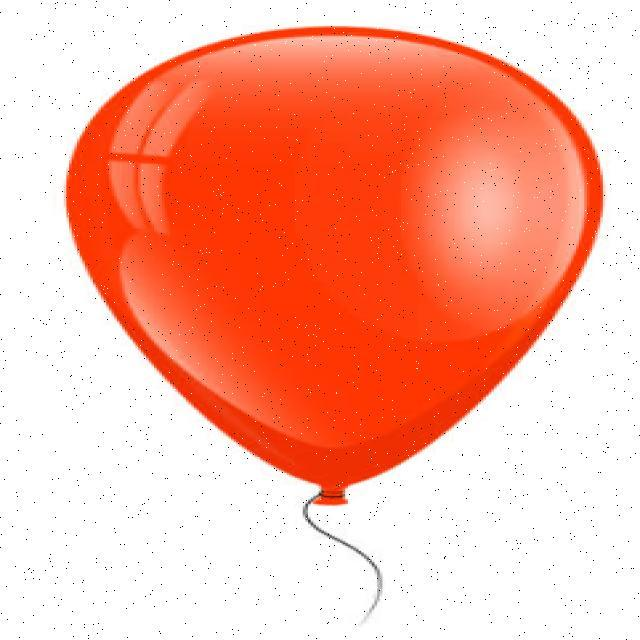red: (64, 25, 604, 505)
